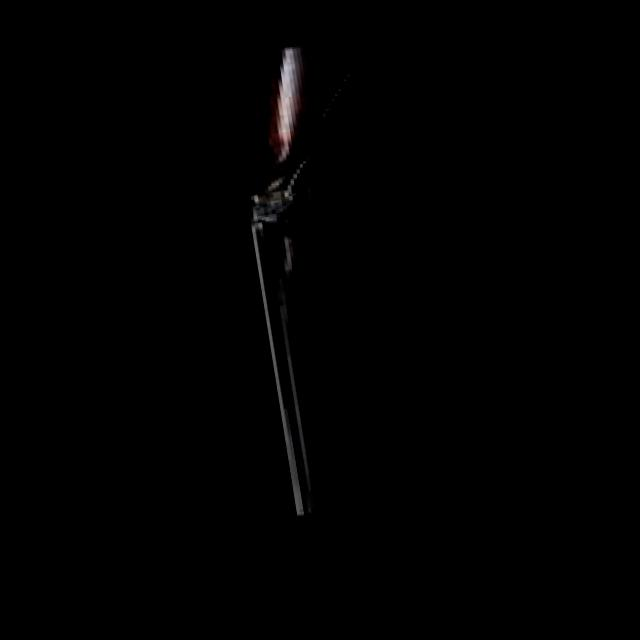long weapon: (227, 24, 349, 532)
